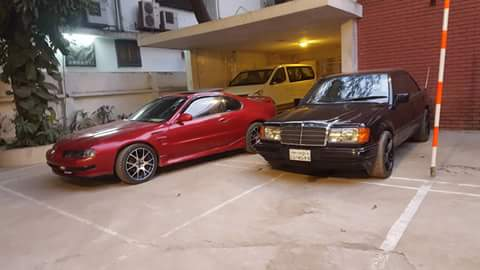registration_plate: (289, 148, 311, 162)
